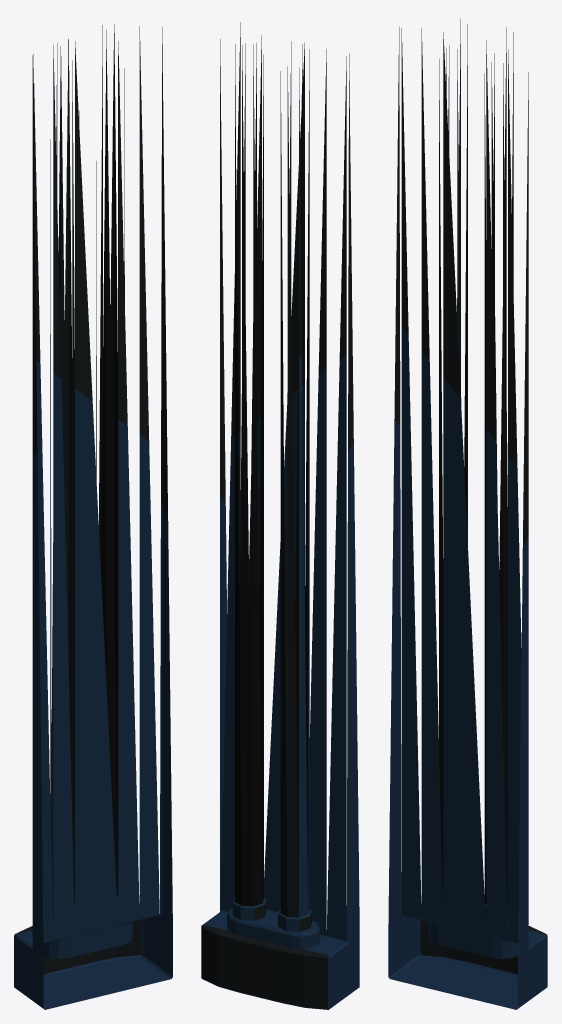
The picture shows the model from 3 angles, left to right: view 1: azimuth 30°, elevation 25°; view 2: azimuth 150°, elevation 25°; view 3: azimuth 330°, elevation 25°; orthographic projection.
Size of the model in its own units: 0.1974 by 1.39 by 0.0933.
